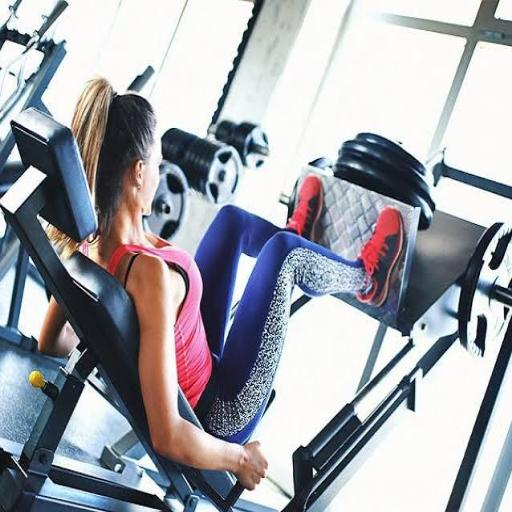Leg Press: (15, 114, 479, 480)
